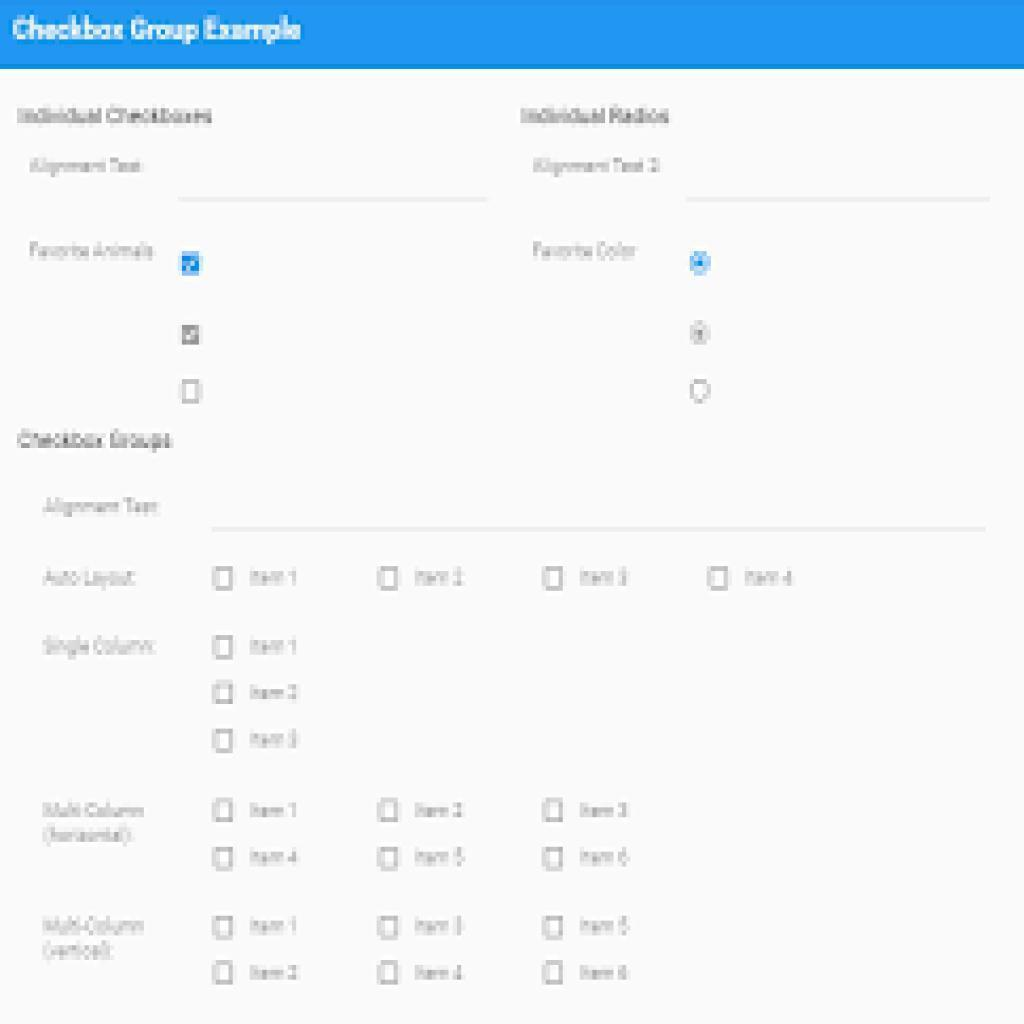checkbox: (206, 557, 240, 600), (372, 839, 405, 879), (373, 951, 403, 995), (539, 839, 569, 883), (207, 951, 241, 989), (700, 561, 734, 596), (539, 552, 566, 596), (206, 677, 240, 711), (208, 908, 243, 939), (211, 629, 240, 666), (176, 376, 202, 416), (208, 724, 239, 757), (541, 790, 563, 836), (541, 912, 567, 949), (207, 795, 235, 825), (375, 914, 401, 946), (375, 562, 401, 593), (210, 845, 236, 875), (376, 795, 401, 825), (541, 958, 566, 988), (178, 251, 204, 279), (180, 320, 203, 350)
radio: (687, 251, 716, 292), (687, 376, 717, 410), (686, 317, 715, 352)
